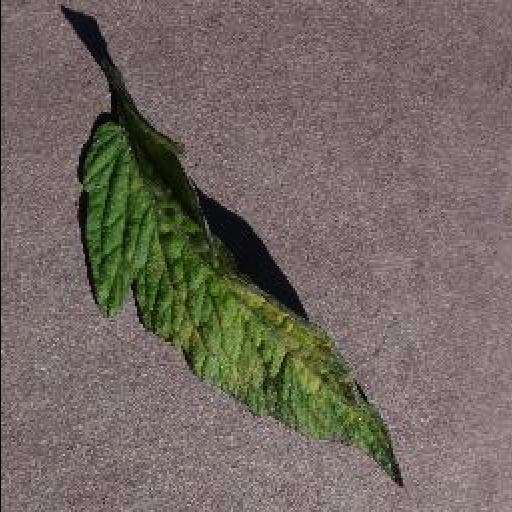disease_tomato: (78, 120, 404, 486)
